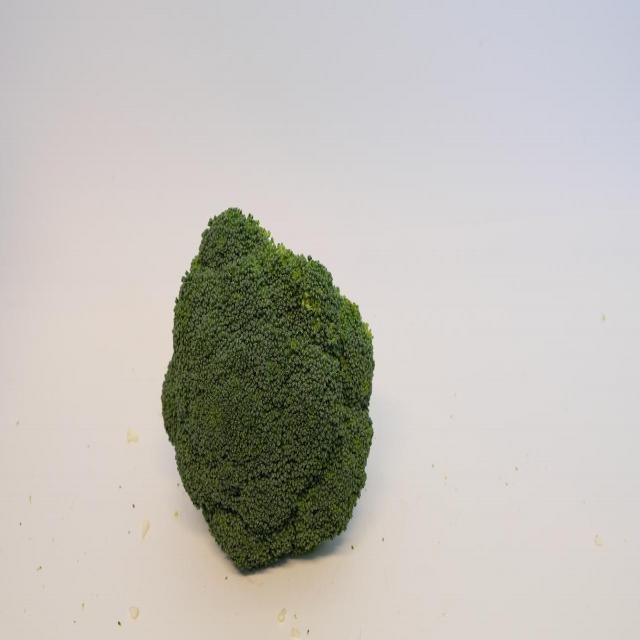broccoli: (162, 203, 376, 576)
